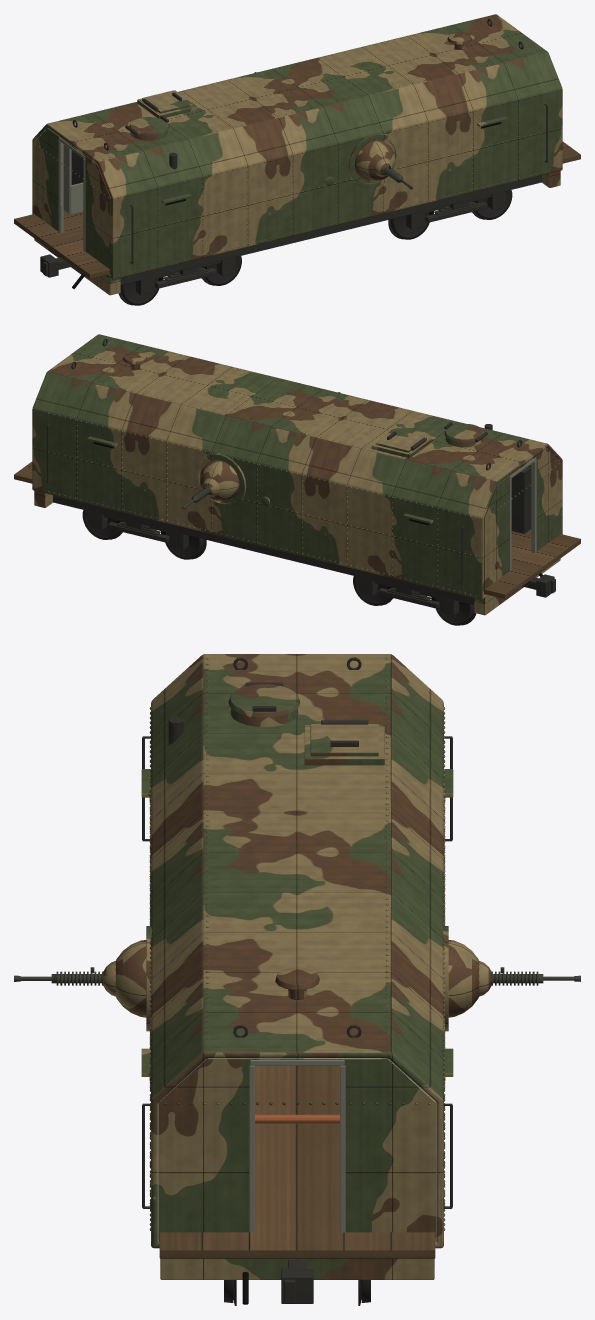
File: tender_car.glb
The picture shows the model from 3 angles, top to bottom: view 1: azimuth 30°, elevation 25°; view 2: azimuth 150°, elevation 25°; view 3: azimuth 270°, elevation 25°; orthographic projection. The views are drawn at different scales.
Visible parts, largest first — view 1: HullShell, HullInterior, Underframe, HullDetails, Bogies, HullRivets, MG_R_Housing, Wheelset_0, Wheelset_2, Wheelset_3, Wheelset_1, MG_R_Gun; view 2: HullShell, HullInterior, Underframe, HullDetails, Bogies, HullRivets, MG_L_Housing, Wheelset_0, Wheelset_2, Wheelset_3, Wheelset_1, MG_L_Gun; view 3: HullShell, HullInterior, HullDetails, Underframe, HullRivets, MG_L_Housing, MG_R_Housing, MG_R_Gun, MG_L_Gun.
Boxes of the visible parts, <box> form: HullShell: <box>32,14,562,279</box>; HullInterior: <box>14,128,580,278</box>; Underframe: <box>34,170,560,295</box>; HullDetails: <box>72,18,547,264</box>; Bogies: <box>136,191,505,295</box>; HullRivets: <box>35,17,547,276</box>; MG_R_Housing: <box>355,140,395,181</box>; Wheelset_0: <box>388,212,429,239</box>; Wheelset_2: <box>118,278,158,305</box>; Wheelset_3: <box>201,256,241,285</box>; Wheelset_1: <box>472,190,512,219</box>; MG_R_Gun: <box>375,158,412,189</box>; HullShell: <box>32,334,562,599</box>; HullInterior: <box>14,424,580,598</box>; Underframe: <box>34,490,560,615</box>; HullDetails: <box>47,338,522,584</box>; Bogies: <box>89,511,458,615</box>; HullRivets: <box>47,337,559,596</box>; MG_L_Housing: <box>199,460,239,501</box>; Wheelset_0: <box>165,532,206,559</box>; Wheelset_2: <box>436,598,476,625</box>; Wheelset_3: <box>353,576,393,605</box>; Wheelset_1: <box>82,510,122,539</box>; MG_L_Gun: <box>182,478,219,509</box>; HullShell: <box>151,654,443,1248</box>; HullInterior: <box>158,716,436,1258</box>; HullDetails: <box>141,657,453,1208</box>; Underframe: <box>160,1258,434,1304</box>; HullRivets: <box>149,657,445,1230</box>; MG_L_Housing: <box>448,940,479,1017</box>; MG_R_Housing: <box>115,940,146,1017</box>; MG_R_Gun: <box>14,961,115,996</box>; MG_L_Gun: <box>479,961,580,996</box>.
Size of the model in its own units: 11.32 by 3.71 by 6.
Materials: 17 (3 with a texture image).
